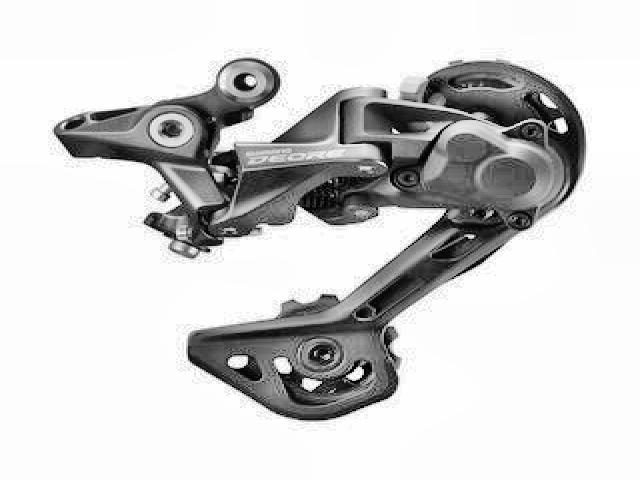rear_derailleur: (50, 52, 590, 424)
